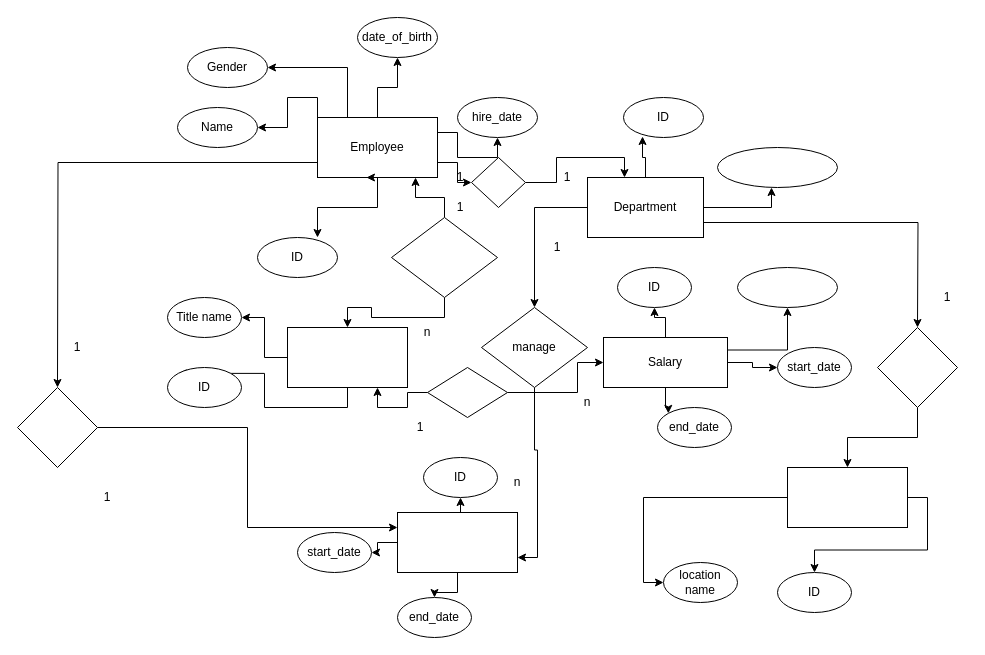
Some shapes in this 985 by 655 pixel diagram are drawn without their labels. Each missing label, with the box of its shape:
Department_name: (716, 146, 838, 188)
diferent: (426, 366, 508, 418)
have: (390, 216, 498, 298)
Job Title: (286, 326, 408, 388)
Locate: (876, 326, 958, 408)
Location: (786, 466, 908, 528)
Manager: (396, 512, 518, 572)
relation: (16, 386, 98, 468)
report to: (470, 156, 526, 208)
Salary_amount: (736, 266, 838, 308)
